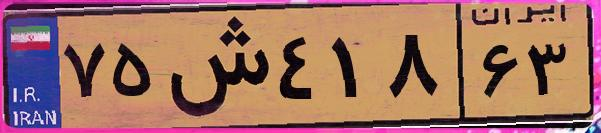1: (330, 28, 385, 110)
3: (525, 38, 570, 115)
4: (270, 28, 330, 110)
5: (110, 28, 158, 98)
6: (475, 38, 525, 113)
7: (57, 26, 110, 100)
8: (385, 28, 445, 110)
ش: (158, 12, 270, 120)
